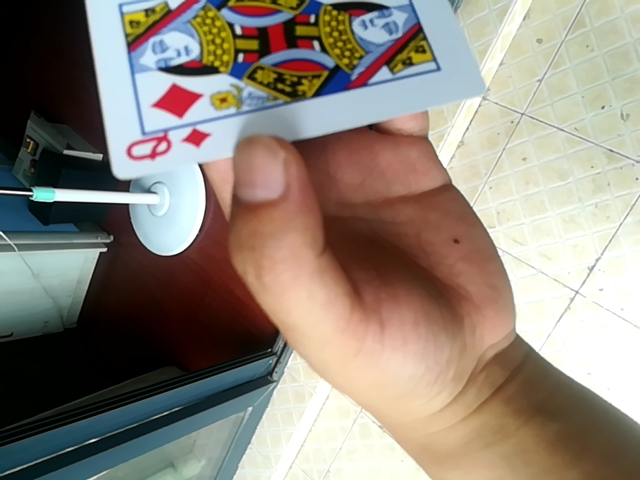fk q: (81, 1, 493, 174)
